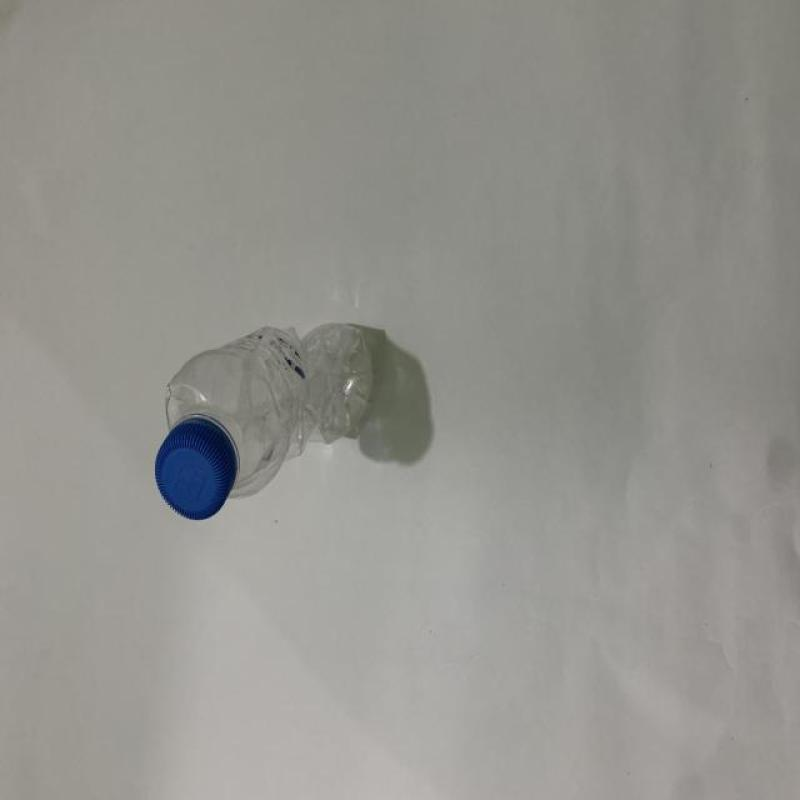botella: (153, 320, 372, 520)
